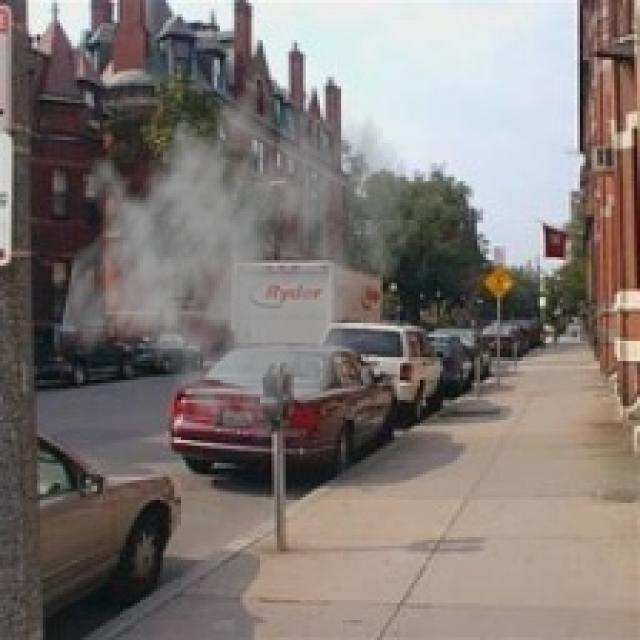smoke: (57, 51, 414, 448)
